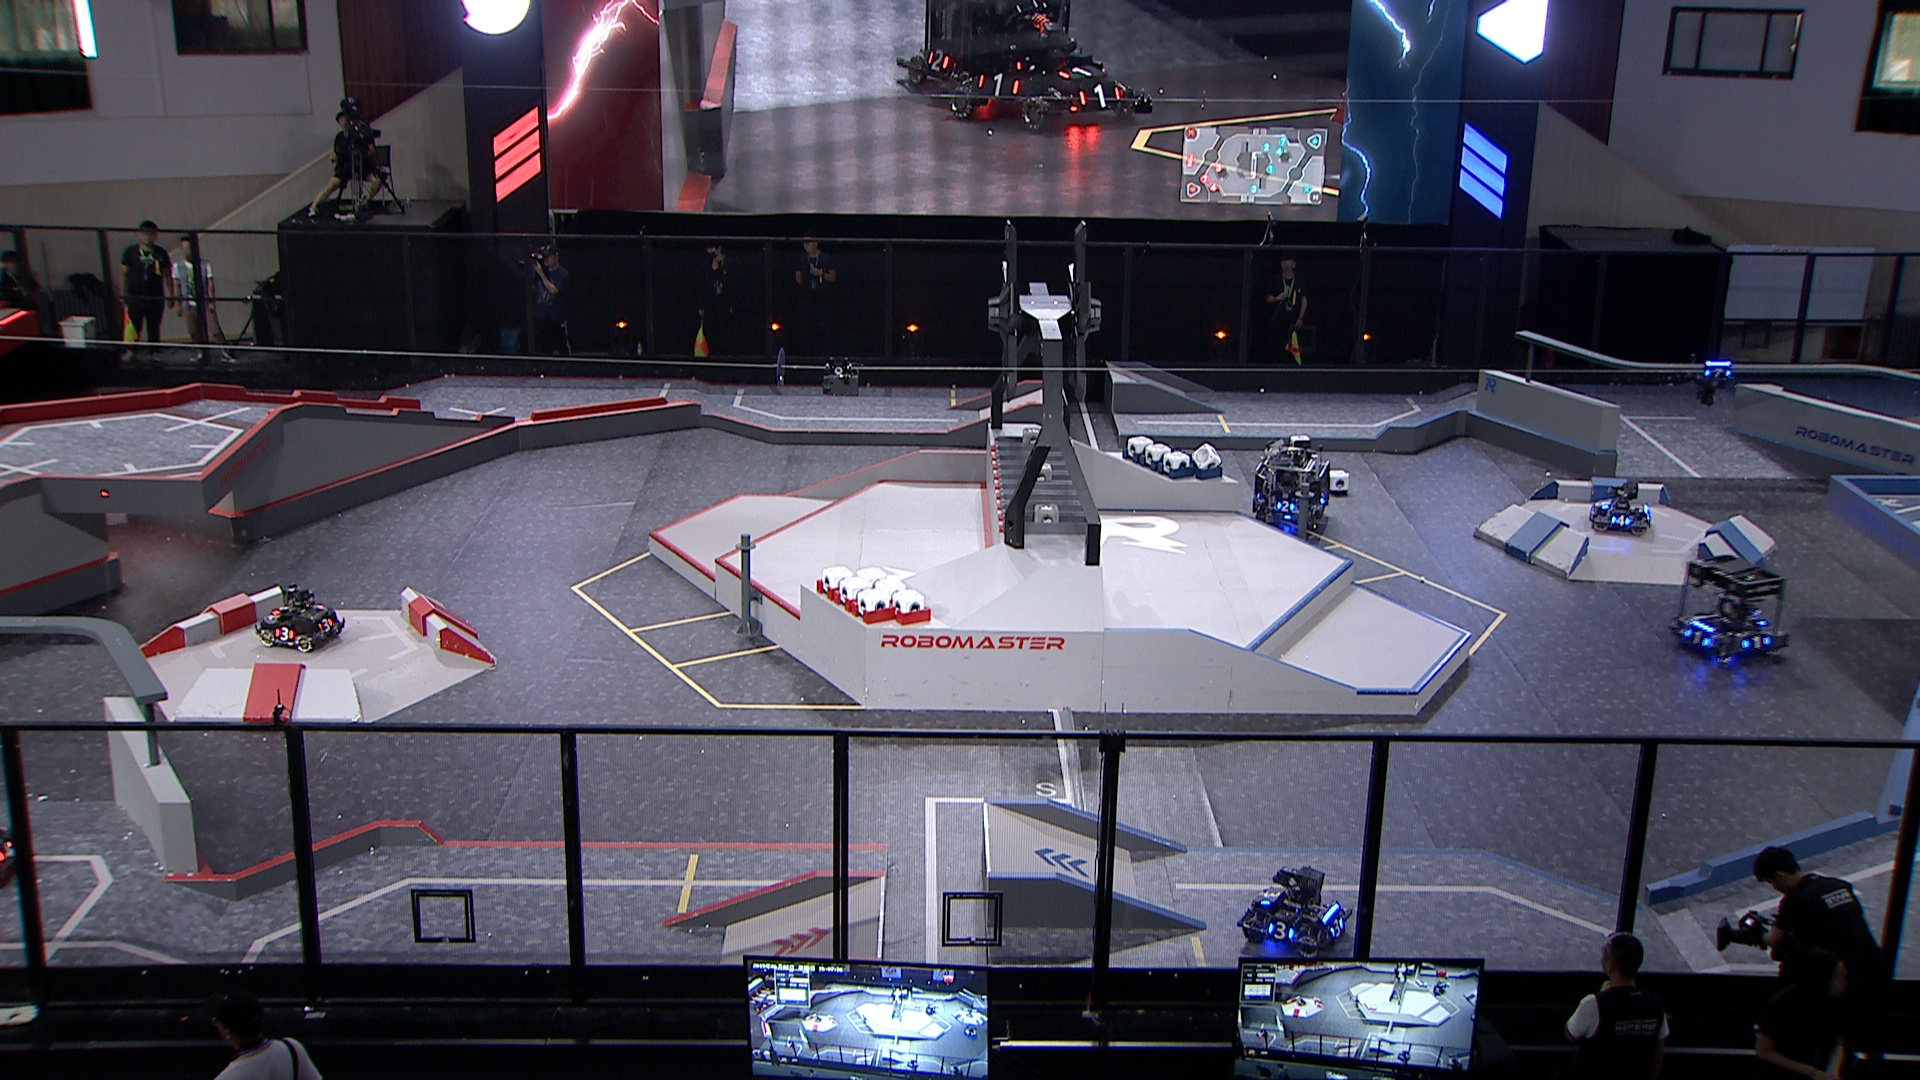armor: (1680, 626, 1713, 647), (1266, 920, 1295, 942), (1741, 633, 1774, 651), (1259, 887, 1282, 906), (1329, 916, 1346, 939), (1702, 367, 1731, 378), (1609, 513, 1633, 527), (315, 617, 334, 636), (1275, 498, 1296, 514), (276, 626, 295, 642), (272, 604, 289, 617)
car: (1669, 556, 1789, 665), (1236, 864, 1352, 960), (1247, 438, 1333, 531), (251, 582, 347, 651), (1590, 479, 1650, 541)
ignore: (944, 20, 1155, 133), (897, 0, 1073, 98)
watcher: (1691, 357, 1733, 406)
